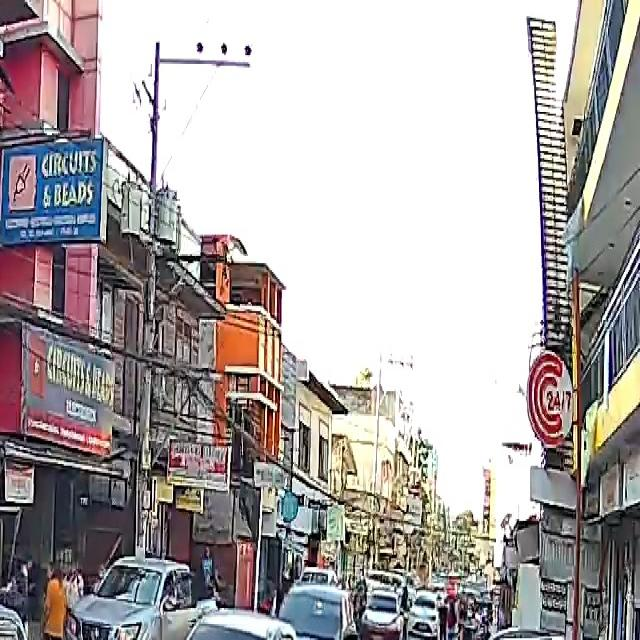car: (0, 554, 142, 640), (65, 554, 203, 640), (136, 602, 315, 640), (273, 583, 361, 640), (356, 583, 408, 640), (466, 626, 624, 640), (404, 592, 438, 638)
